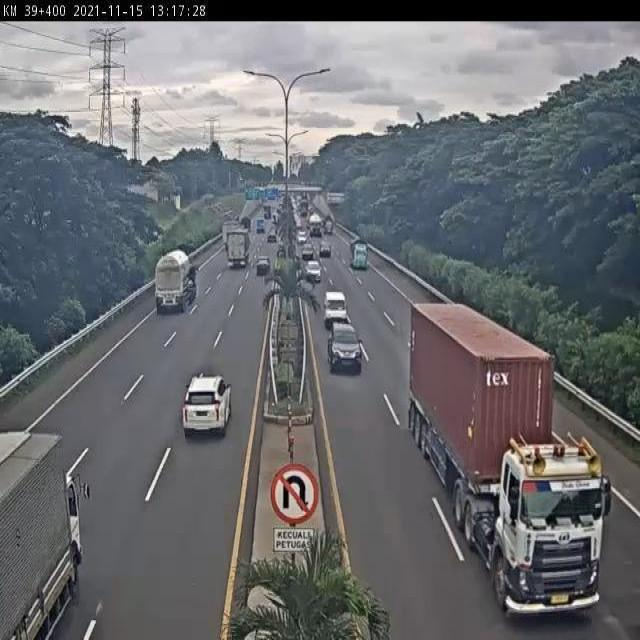car: (181, 368, 233, 444), (327, 320, 362, 375), (254, 254, 273, 278), (304, 261, 322, 283)
truck: (402, 296, 611, 624), (0, 433, 80, 640), (152, 248, 200, 317), (224, 227, 251, 268), (322, 289, 350, 324), (350, 234, 369, 270)
